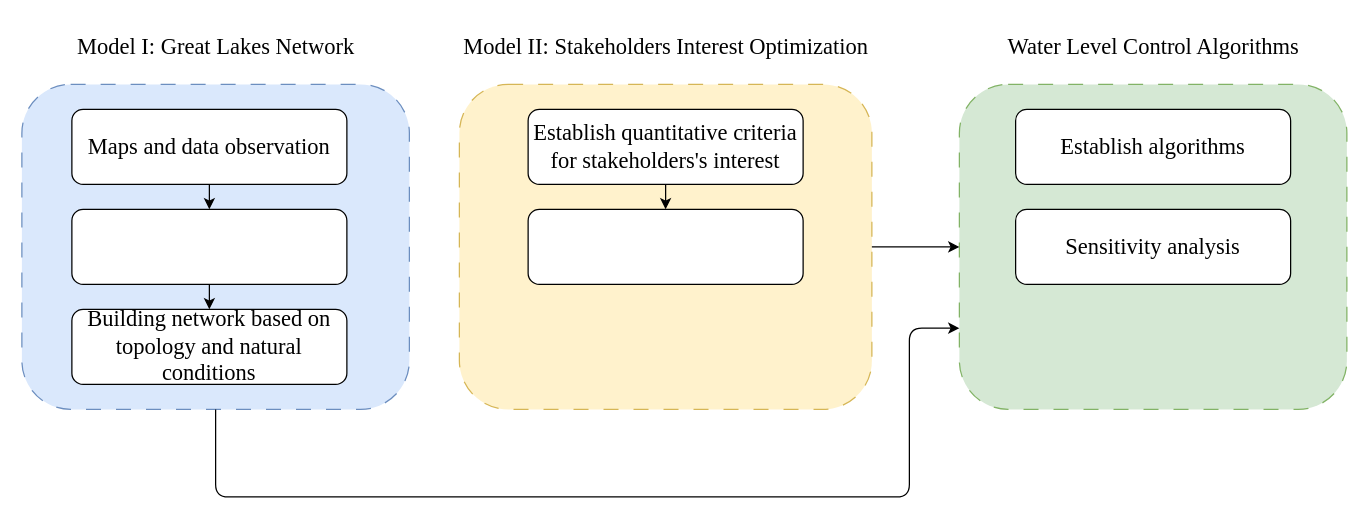
The diagram is 1369 pixels wide and 529 high, and some of its shapes have lost their labels. The shapes that lost their labels are listed below. From the top down, each one's centre as x and y in pixels, then its label:
At [209,246]: "Draw topology diagram".
At [665,246]: "Multi-objective optimization".
